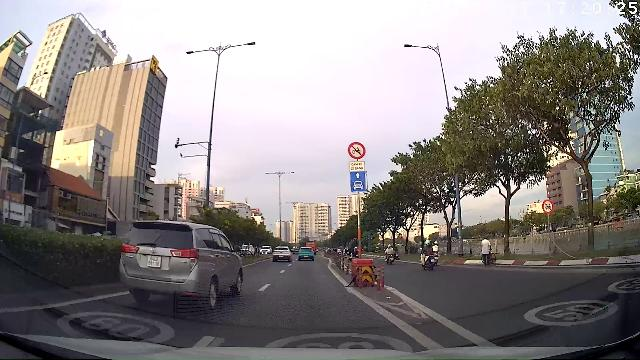103a-cam-oto: (542, 199, 554, 214)
